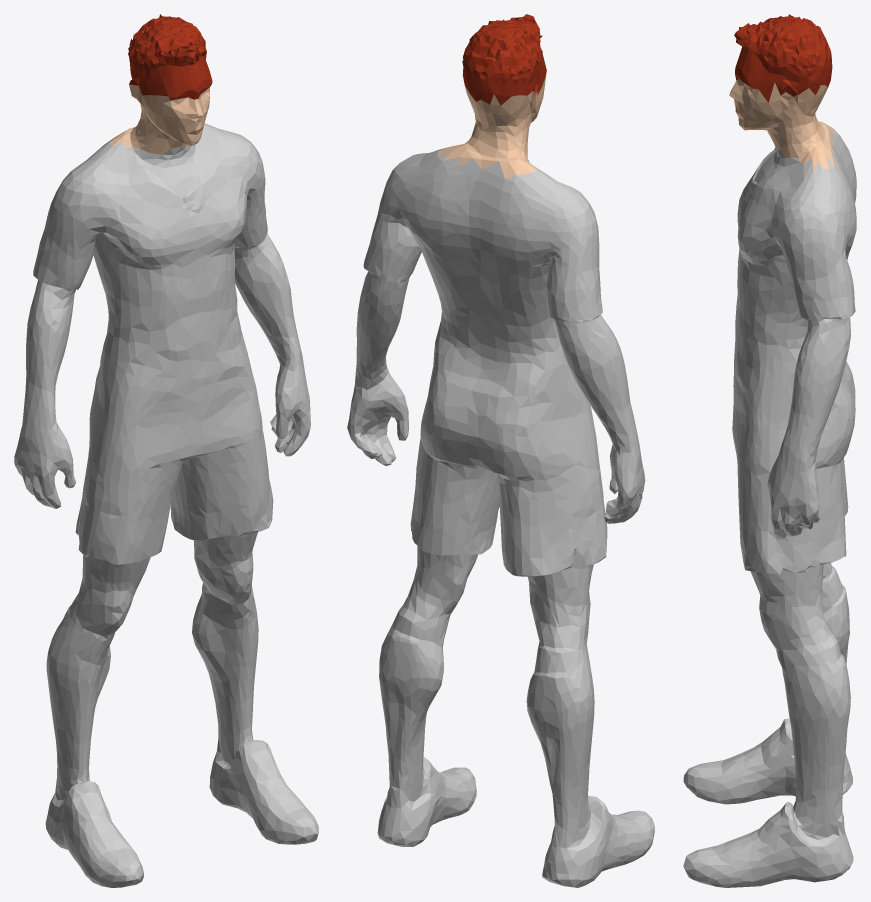
Rendered from teamA_player_04.obj.
The picture shows the model from 3 angles, left to right: view 1: azimuth 30°, elevation 25°; view 2: azimuth 150°, elevation 25°; view 3: azimuth 270°, elevation 25°; orthographic projection.
Visible parts, largest first — view 1: teamA_player_04_Mesh; view 2: teamA_player_04_Mesh; view 3: teamA_player_04_Mesh.
Part boxes in pixels (x1,y1,x2,y2): teamA_player_04_Mesh: (14,14,318,887); teamA_player_04_Mesh: (347,14,654,887); teamA_player_04_Mesh: (683,14,856,887).
Size of the model in its own units: 0.6564 by 1.8 by 0.3463.
